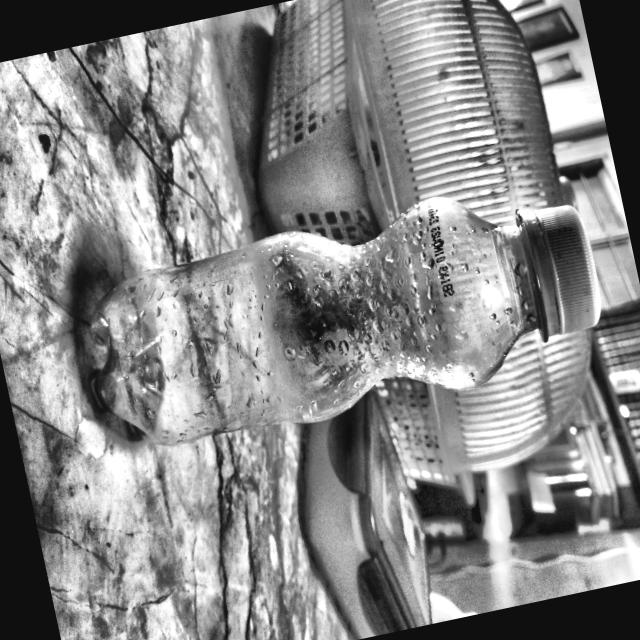Plastic-Bottle: (56, 160, 617, 472)
